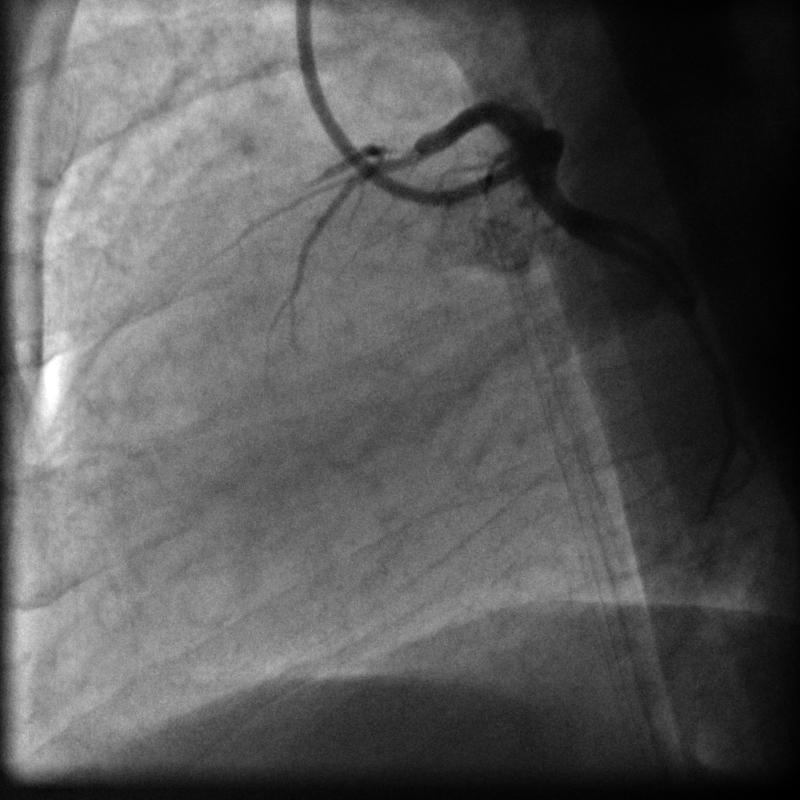Stenosis: (347, 143, 423, 176)
